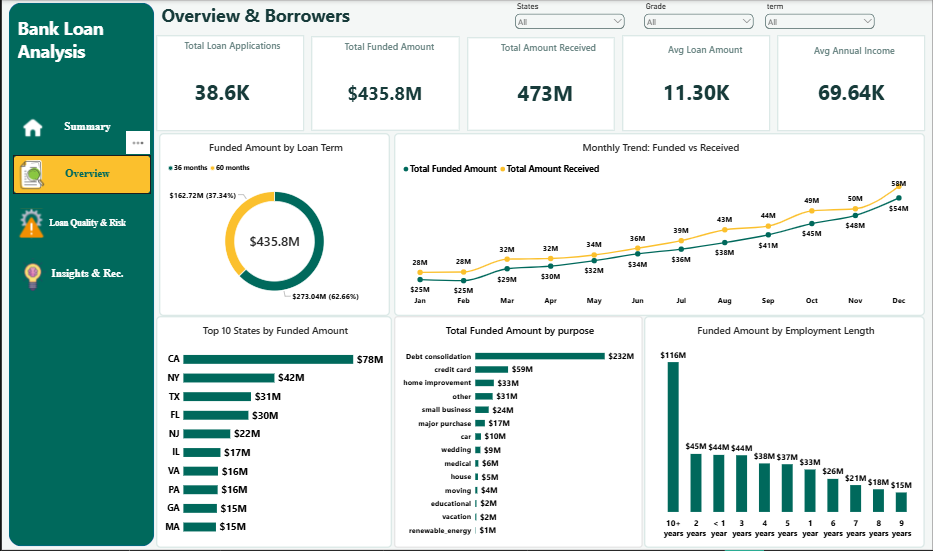

What the dashboard file says about the page in this screenshot:
{"tool":"powerbi","page":{"name":"Overview & Borrowers","canvas":[2037,1199],"ordinal":1},"visuals":[{"type":"shape","box":[11,0,326.4,1198.1],"z":0},{"type":"shape","box":[24.4,22.2,302.2,131.1],"z":1000},{"type":"shape","box":[337.8,75.6,325,211.1],"z":2000},{"type":"shape","box":[371.1,75.6,268.9,42.2],"z":3000},{"type":"cardVisual","fields":{"Data":["bank_loan_data.Total Loan Applications"]},"box":[390.1,163.1,184.4,71.1],"z":4000},{"type":"shape","box":[676.8,76.7,326.4,208.1],"z":5000},{"type":"shape","box":[714.4,76.7,268.9,42.2],"z":6000},{"type":"cardVisual","fields":{"Data":["bank_loan_data.Total Funded Amount"]},"box":[740.6,163.1,197.8,77.8],"z":7000},{"type":"shape","box":[1018.5,78.9,324.2,205.9],"z":8000},{"type":"shape","box":[1062.2,77.8,268.9,42.2],"z":9000},{"type":"cardVisual","fields":{"Data":["bank_loan_data.Total Amount Received"]},"box":[1097.6,165.3,184.4,71.1],"z":10000},{"type":"shape","box":[1357.8,75.6,325,211.1],"z":11000},{"type":"shape","box":[1405.6,83.3,268.9,42.2],"z":12000},{"type":"cardVisual","fields":{"Data":["bank_loan_data.Avg Loan Amount"]},"box":[1421.6,163.1,197.8,71.1],"z":13000},{"type":"shape","box":[1697.8,75.6,325,211.1],"z":14000},{"type":"shape","box":[1732.5,84.4,268.9,42.2],"z":15000},{"type":"cardVisual","fields":{"Data":["bank_loan_data.Avg Annual Income"]},"box":[1763.3,163.1,193.3,71.1],"z":16000},{"type":"shape","box":[343.9,0,444.6,74.5],"z":17000},{"type":"slicer","fields":{"Values":["bank_loan_data.address_state"]},"box":[1120,2.2,248.9,68.9],"z":18000},{"type":"lineChart","title":"Monthly Trend: Funded vs Received","fields":{"Category":["Date.Month Name"],"Y":["bank_loan_data.Total Funded Amount","bank_loan_data.Total Amount Received"]},"box":[858.6,289.1,1163.1,400.8],"z":19000},{"type":"slicer","fields":{"Values":["bank_loan_data.grade"]},"box":[1402.2,2.2,248.9,68.9],"z":20000},{"type":"slicer","fields":{"Values":["bank_loan_data.term"]},"box":[1666.7,2.2,248.9,68.9],"z":21000},{"type":"donutChart","title":"Funded Amount by Loan Term","fields":{"Category":["bank_loan_data.term"],"Y":["bank_loan_data.Total Funded Amount"]},"box":[343.9,289.1,506,400.8],"z":22000},{"type":"clusteredBarChart","title":"Top 10 States by Funded Amount","fields":{"Category":["bank_loan_data.address_state"],"Y":["bank_loan_data.Total Funded Amount"]},"box":[337.3,690,516.9,508.2],"z":23000},{"type":"clusteredColumnChart","title":"Funded Amount by Employment Length","fields":{"Category":["bank_loan_data.emp_length"],"Y":["bank_loan_data.Total Funded Amount"]},"box":[1406.2,690,615.5,508.2],"z":24000},{"type":"clusteredBarChart","fields":{"Category":["bank_loan_data.purpose"],"Y":["bank_loan_data.Total Funded Amount"]},"box":[858.1,689.7,545.3,507.9],"z":25000},{"type":"actionButton","box":[24.1,234.4,302.3,85.4],"z":26000},{"type":"actionButton","box":[24.1,337.3,302.3,85.4],"z":27000},{"type":"actionButton","box":[24.1,444.6,302.3,85.4],"z":28000},{"type":"actionButton","box":[24.1,556.3,302.3,85.4],"z":29000}]}

Visuals, with their boxes on the page's 2037x1199 design canvas (x1, y1, x2, y2). These are canvas units, not pixel positions in the 933x551 screenshot, which may show the page scaled, cropped or inside an application window:
shape: locate(11, 0, 337, 1198)
shape: locate(24, 22, 327, 153)
shape: locate(338, 76, 663, 287)
shape: locate(371, 76, 640, 118)
cardVisual - bank_loan_data.Total Loan Applications: locate(390, 163, 574, 234)
shape: locate(677, 77, 1003, 285)
shape: locate(714, 77, 983, 119)
cardVisual - bank_loan_data.Total Funded Amount: locate(741, 163, 938, 241)
shape: locate(1018, 79, 1343, 285)
shape: locate(1062, 78, 1331, 120)
cardVisual - bank_loan_data.Total Amount Received: locate(1098, 165, 1282, 236)
shape: locate(1358, 76, 1683, 287)
shape: locate(1406, 83, 1674, 126)
cardVisual - bank_loan_data.Avg Loan Amount: locate(1422, 163, 1619, 234)
shape: locate(1698, 76, 2023, 287)
shape: locate(1732, 84, 2001, 127)
cardVisual - bank_loan_data.Avg Annual Income: locate(1763, 163, 1957, 234)
shape: locate(344, 0, 788, 74)
slicer - bank_loan_data.address_state: locate(1120, 2, 1369, 71)
"Monthly Trend: Funded vs Received" lineChart: locate(859, 289, 2022, 690)
slicer - bank_loan_data.grade: locate(1402, 2, 1651, 71)
slicer - bank_loan_data.term: locate(1667, 2, 1916, 71)
"Funded Amount by Loan Term" donutChart: locate(344, 289, 850, 690)
"Top 10 States by Funded Amount" clusteredBarChart: locate(337, 690, 854, 1198)
"Funded Amount by Employment Length" clusteredColumnChart: locate(1406, 690, 2022, 1198)
clusteredBarChart - bank_loan_data.purpose x bank_loan_data.Total Funded Amount: locate(858, 690, 1403, 1198)
actionButton: locate(24, 234, 326, 320)
actionButton: locate(24, 337, 326, 423)
actionButton: locate(24, 445, 326, 530)
actionButton: locate(24, 556, 326, 642)
